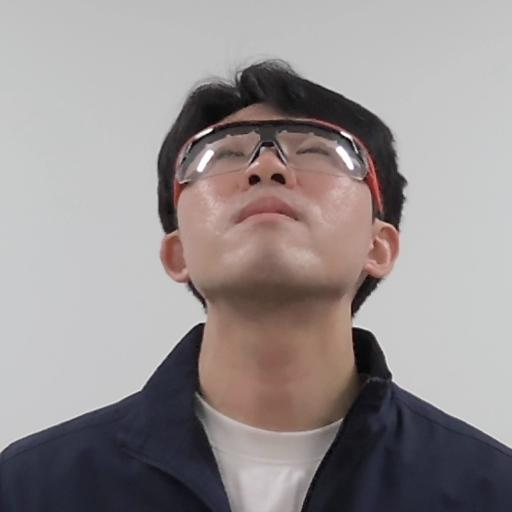glasses: (154, 71, 408, 325)
